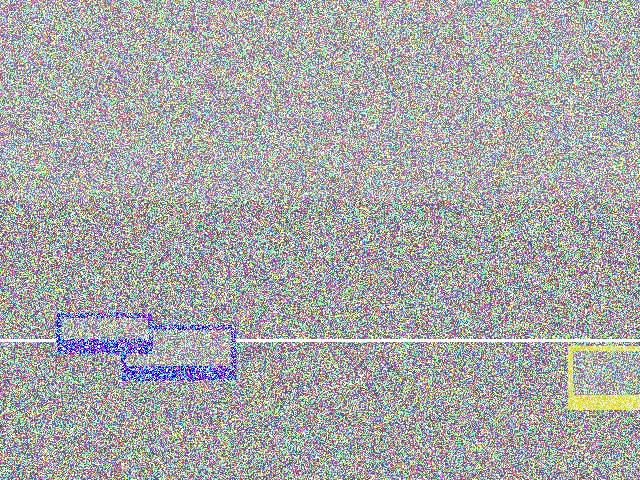car: (164, 109, 247, 252)
motorcycle: (20, 125, 145, 193)
truck: (234, 313, 362, 404)
